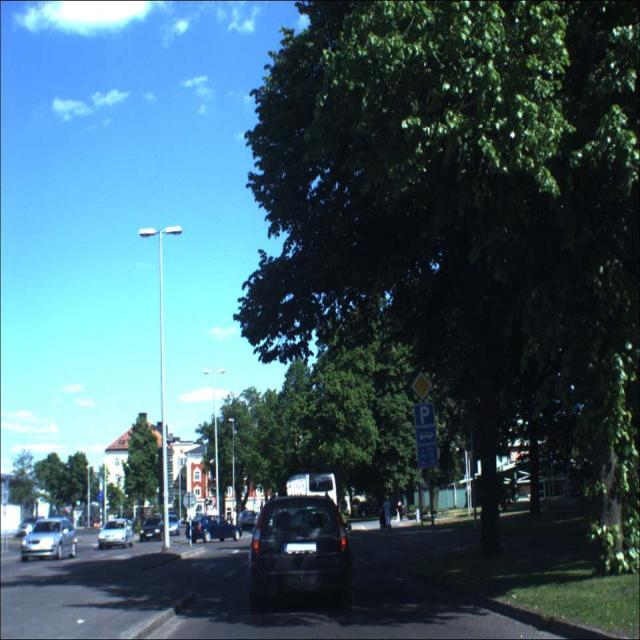park: (415, 403, 435, 428)
